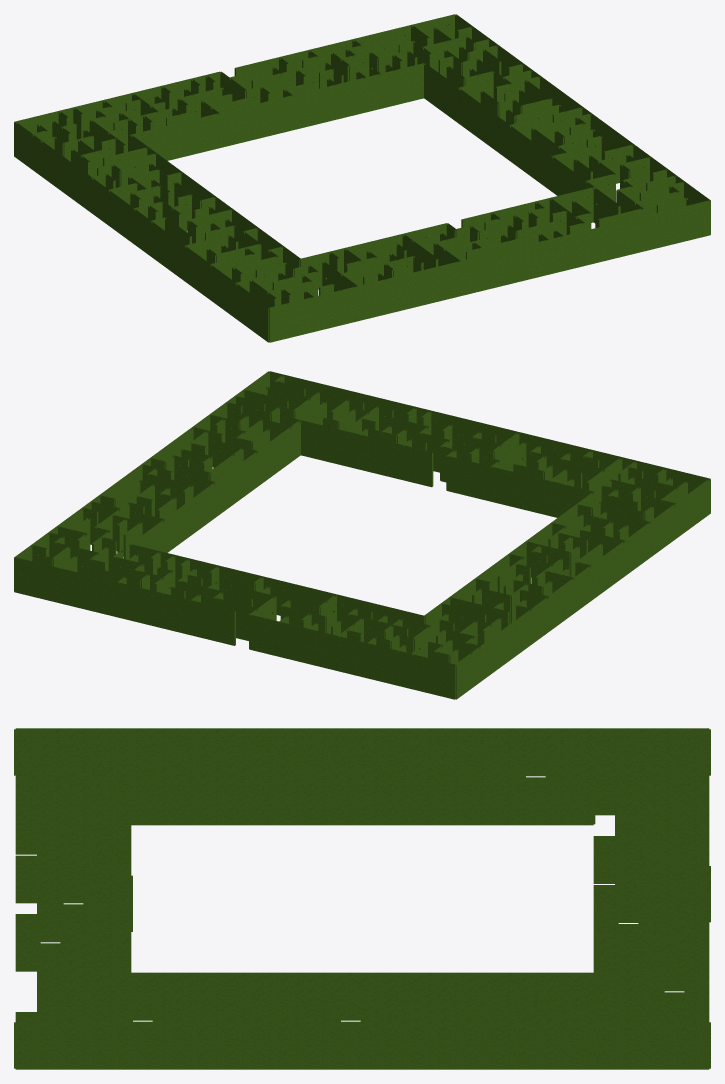
Rendered from Maze-3 But Better.fbx.
The picture shows the model from 3 angles, top to bottom: view 1: azimuth 30°, elevation 25°; view 2: azimuth 150°, elevation 25°; view 3: azimuth 270°, elevation 25°; orthographic projection. The views are drawn at different scales.
Parts seen in each view (by area): view 1: Curve.002; view 2: Curve.002; view 3: Curve.002.
Boxes of the visible parts, <box> form: Curve.002: <box>14,14,710,342</box>; Curve.002: <box>14,371,710,699</box>; Curve.002: <box>14,728,710,1069</box>.
Bounding box in the file's own units: 2042 × 150 × 2042.
